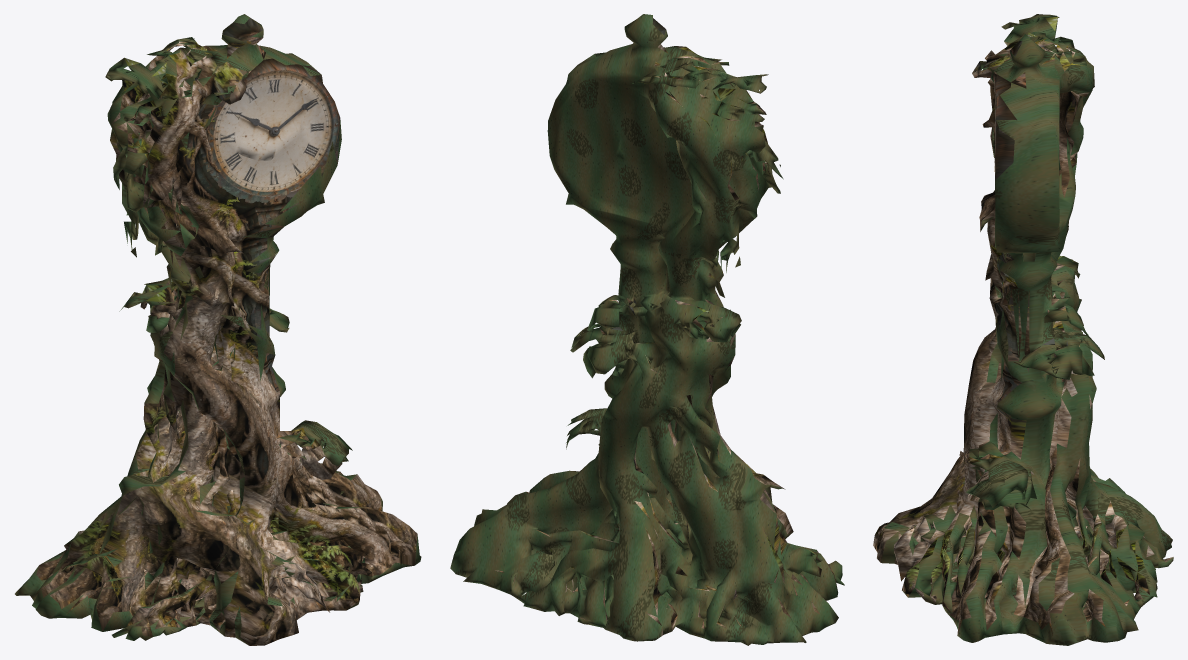
Rendered from station_clock.glb.
3 views of the same model, side by side, from view 1: azimuth 30°, elevation 25°; view 2: azimuth 150°, elevation 25°; view 3: azimuth 270°, elevation 25° (orthographic). The views are drawn at different scales.
Parts seen in each view (by area): view 1: Hunyuan_clock_game; view 2: Hunyuan_clock_game; view 3: Hunyuan_clock_game.
Part boxes in pixels (x1=…): Hunyuan_clock_game: x1=15, y1=14, x2=421, y2=645; Hunyuan_clock_game: x1=450, y1=14, x2=844, y2=645; Hunyuan_clock_game: x1=873, y1=14, x2=1173, y2=645.
Size of the model in its own units: 2.15 by 3.25 by 1.65.
Materials: 2 (2 with a texture image).
